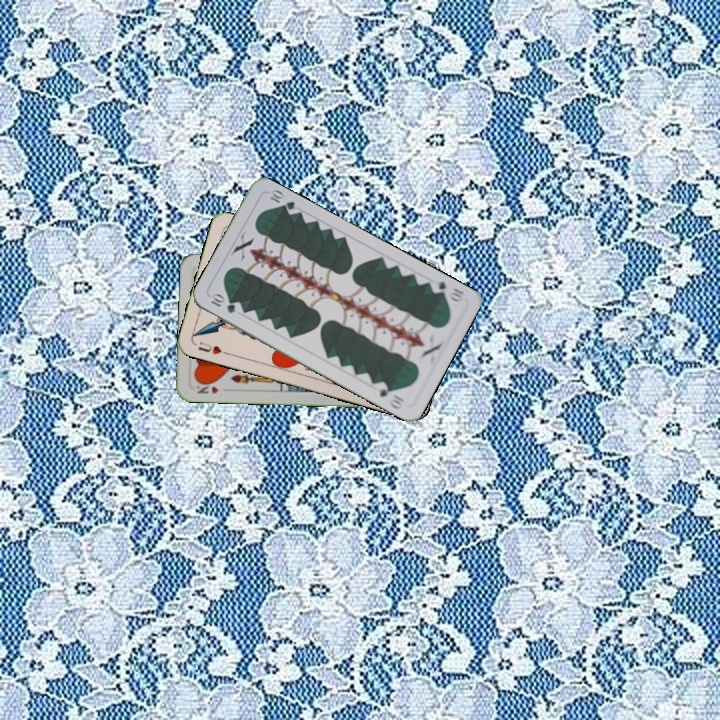G10: (426, 276, 467, 304), (207, 290, 238, 316)
HK: (191, 378, 221, 396)
HU: (194, 338, 231, 357)
